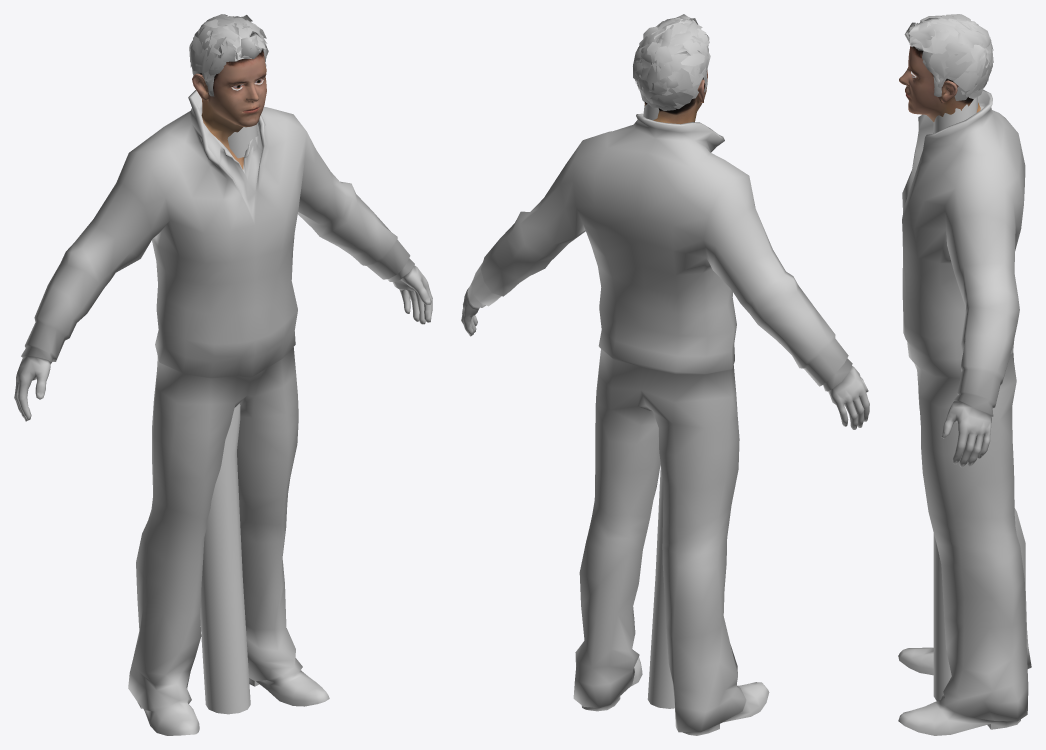
The model's file is headOnAPole.FBX.
3 views of the same model, side by side, from view 1: azimuth 30°, elevation 25°; view 2: azimuth 150°, elevation 25°; view 3: azimuth 270°, elevation 25° (orthographic). The views are drawn at different scales.
Parts seen in each view (by area): view 1: CMan0002-M3-Body, Cylinder001, CMan0002-M3-Hair; view 2: CMan0002-M3-Body, CMan0002-M3-Hair, Cylinder001; view 3: CMan0002-M3-Body, CMan0002-M3-Hair, Cylinder001.
Boxes of the visible parts, left/top/right/bottom form: CMan0002-M3-Body: left=14, top=50, right=432, bottom=735; Cylinder001: left=200, top=124, right=258, bottom=714; CMan0002-M3-Hair: left=189, top=14, right=268, bottom=96; CMan0002-M3-Body: left=461, top=70, right=869, bottom=735; CMan0002-M3-Hair: left=633, top=14, right=710, bottom=110; Cylinder001: left=643, top=104, right=674, bottom=708; CMan0002-M3-Body: left=898, top=46, right=1031, bottom=735; CMan0002-M3-Hair: left=904, top=14, right=993, bottom=100; Cylinder001: left=933, top=97, right=977, bottom=700.
Bounding box in the file's own units: 1.15 × 1.83 × 0.3272.
